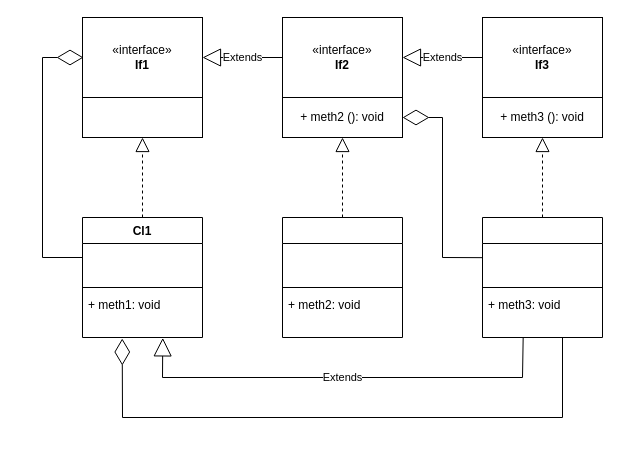
Image size: 620x461. Some labels were removed from this diagram. Each missing label, with the box of its shape:
+ meth1 (): void: (82, 96, 202, 138)
Cl12: (282, 216, 402, 338)
Cl3: (482, 216, 602, 338)
